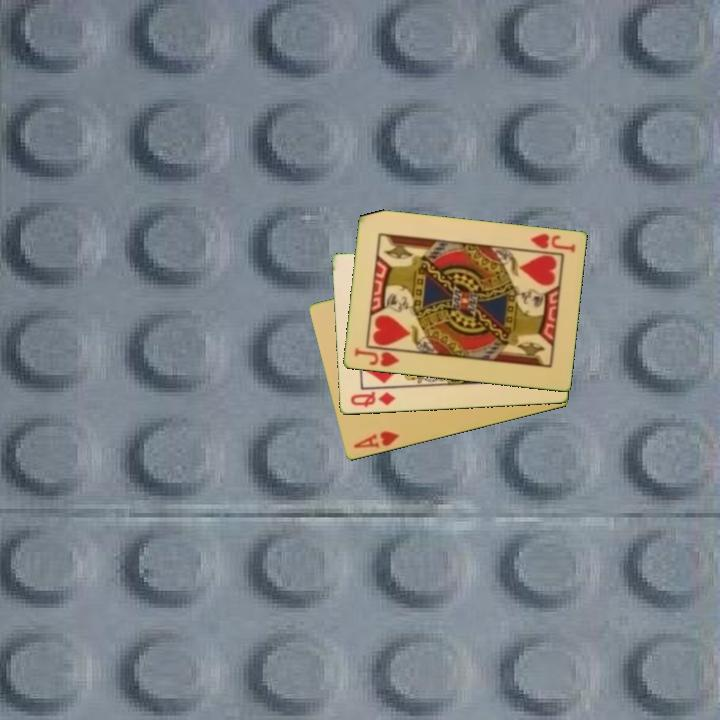Ah: (350, 428, 402, 452)
Jh: (527, 230, 578, 256), (351, 345, 402, 370)
Qd: (347, 388, 398, 410)
